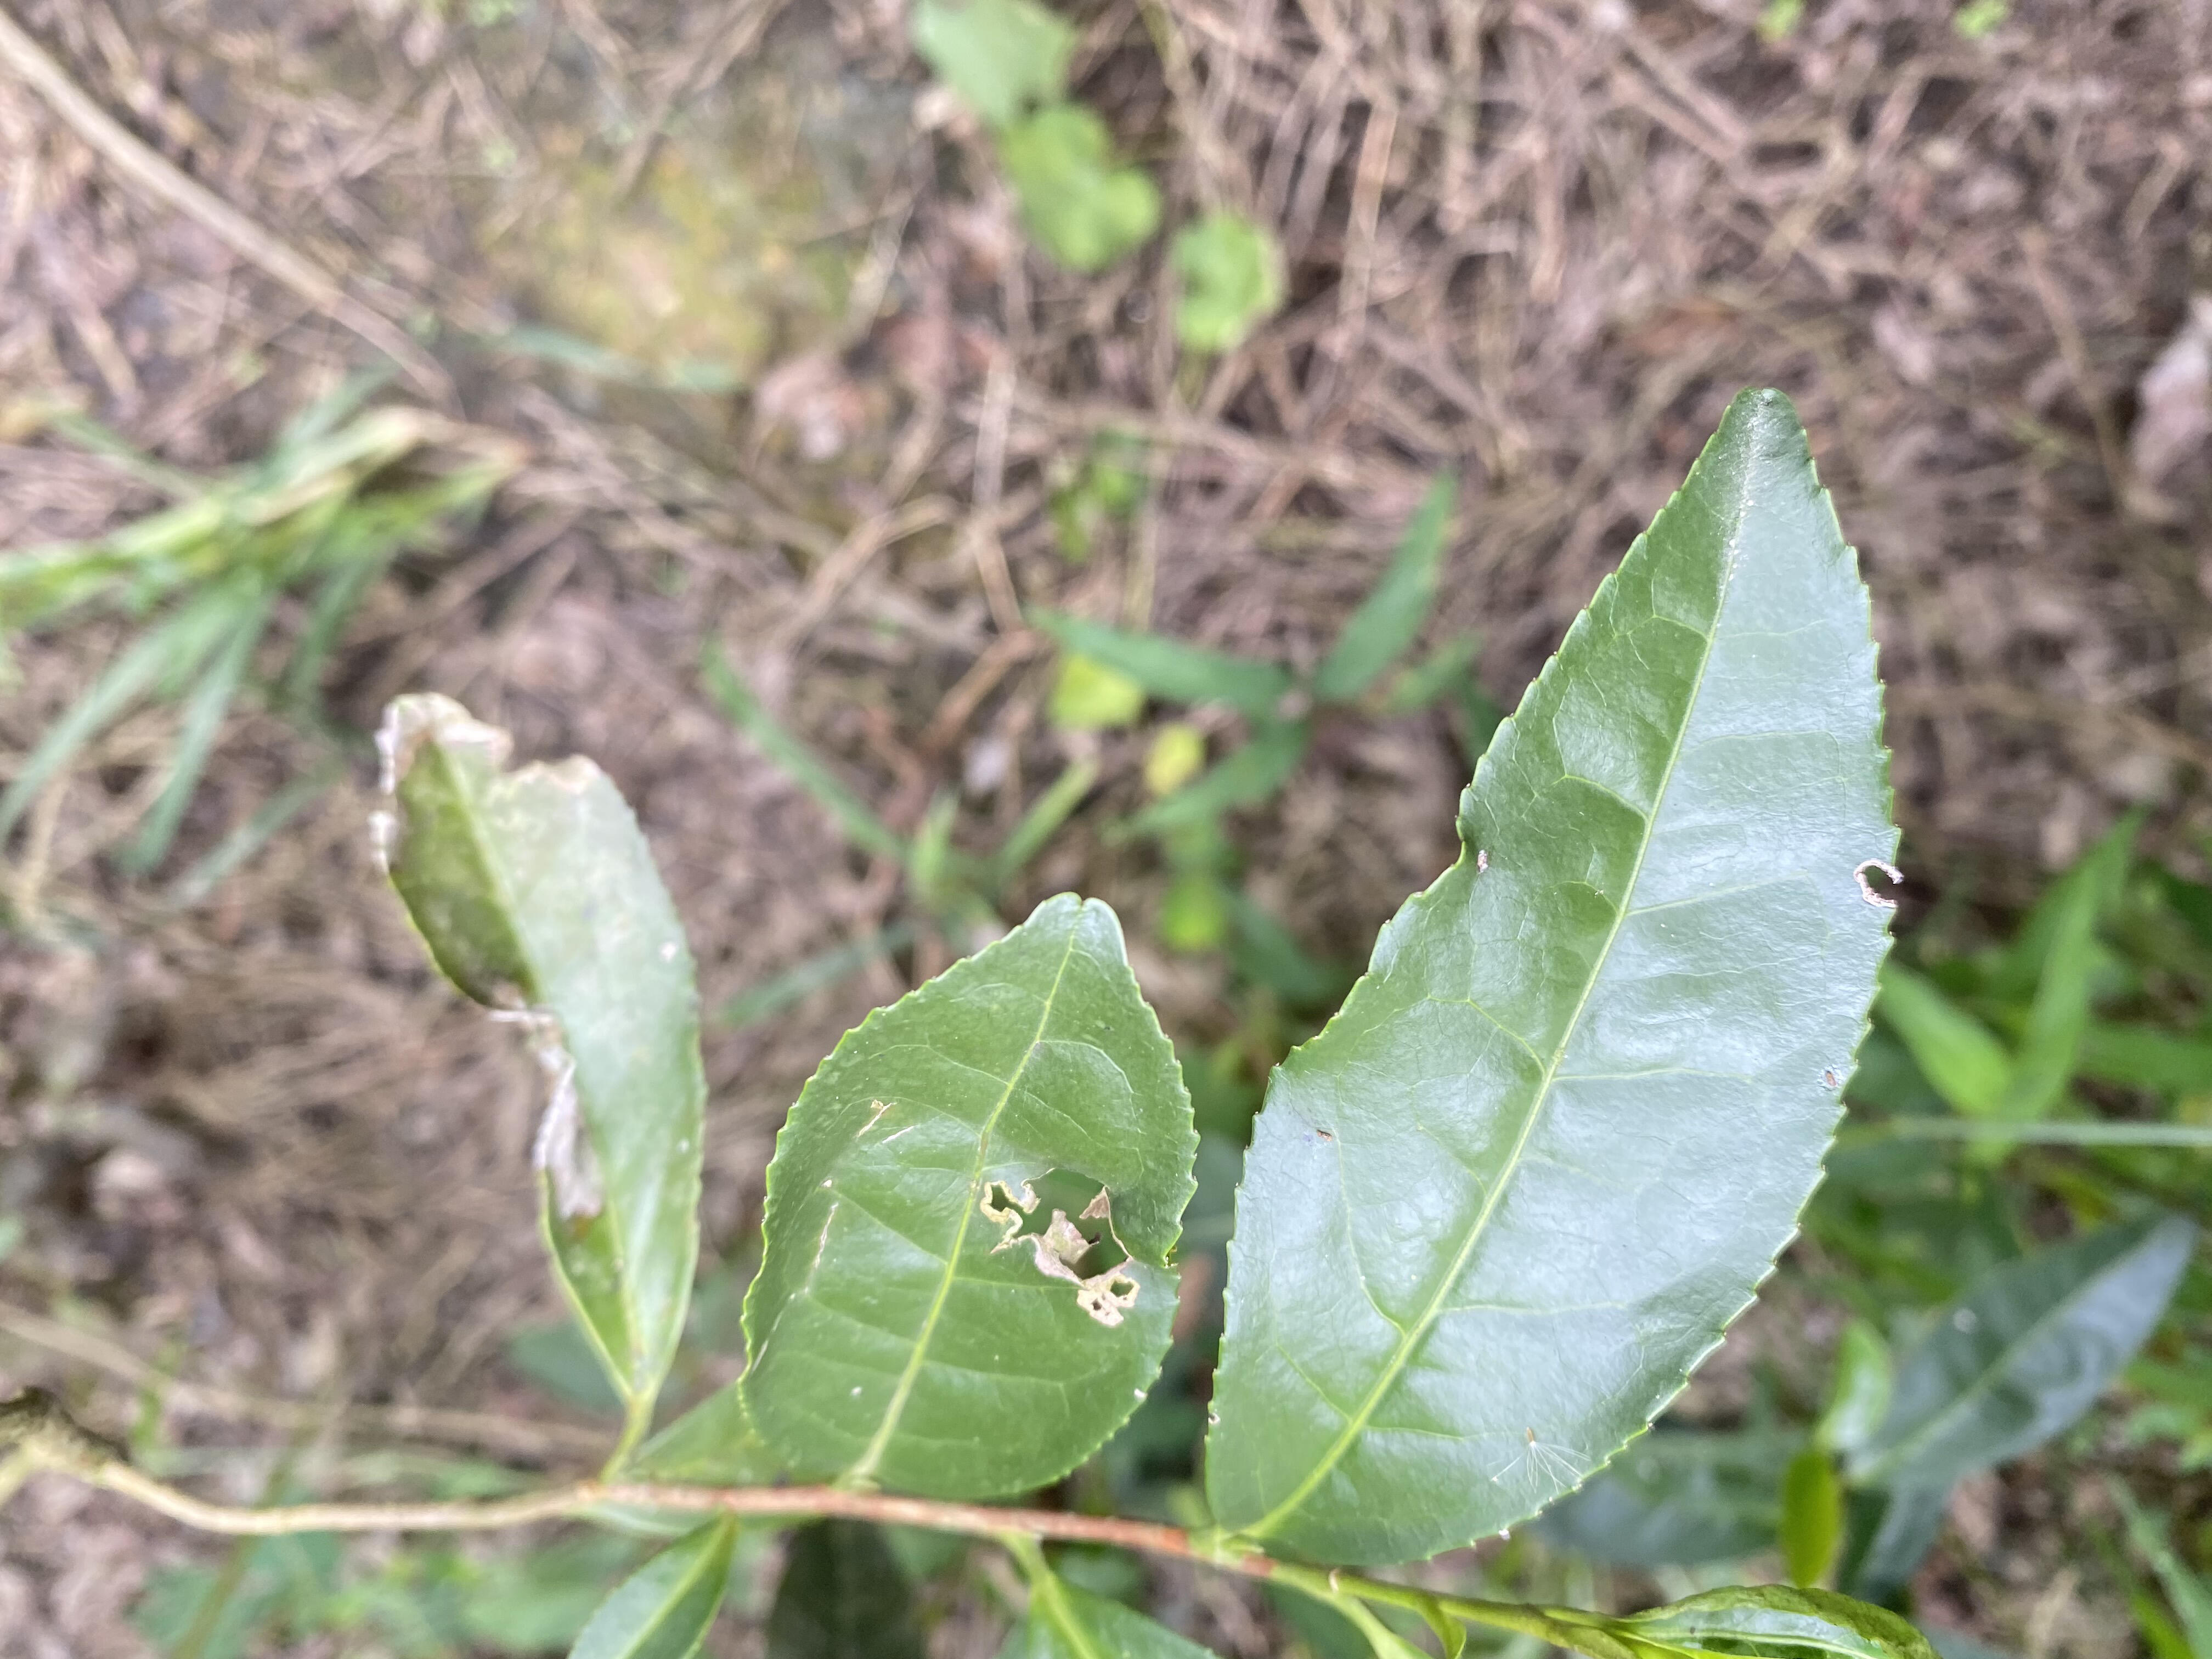chihuo_low: (1204, 383, 1904, 1577)
tanju_high: (733, 889, 1202, 1504), (369, 688, 711, 1408)
